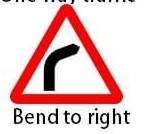Traffic signal: (9, 4, 124, 104)
